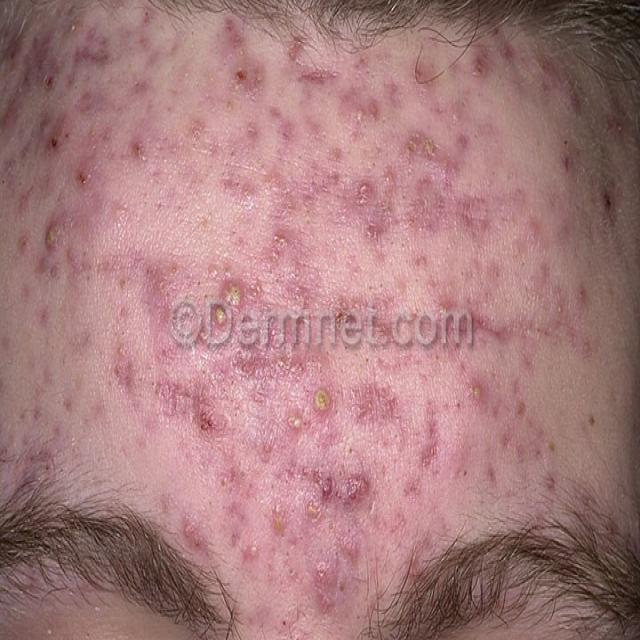acne: (276, 382, 380, 514), (542, 116, 624, 251), (314, 137, 392, 248), (209, 21, 277, 130), (116, 238, 185, 344), (22, 110, 94, 202), (172, 374, 242, 464), (20, 216, 80, 304), (68, 32, 122, 97), (463, 26, 505, 100)
